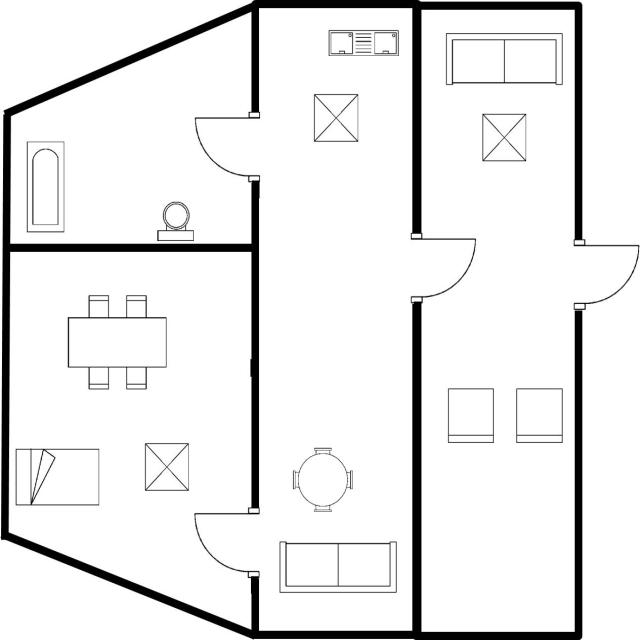bed: (13, 444, 105, 511)
coffee_table: (140, 437, 193, 495), (309, 89, 362, 147), (477, 109, 530, 165)
dining_table: (61, 289, 174, 395)
large_sink: (152, 199, 199, 244)
large_sofa: (439, 27, 566, 93), (274, 536, 400, 598)
round_table: (288, 442, 356, 516)
small_sofa: (511, 383, 567, 447), (443, 384, 497, 448)
tub: (22, 136, 68, 236)
twin_sink: (325, 26, 401, 60)
